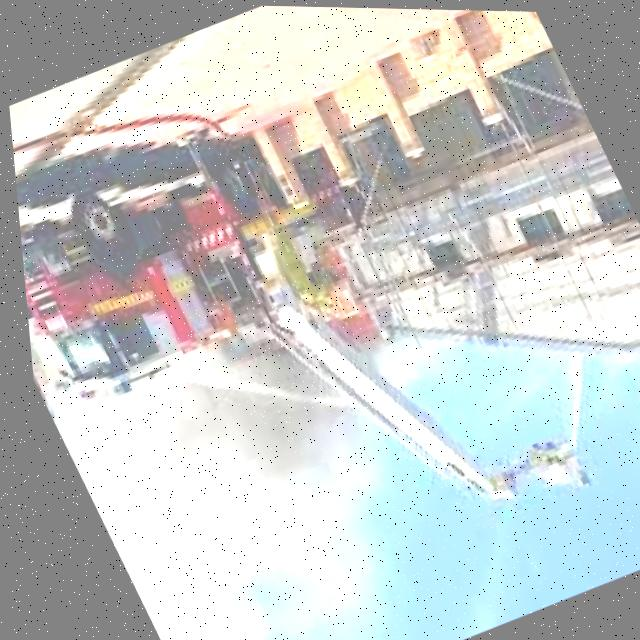Smoke: (23, 278, 464, 640)
